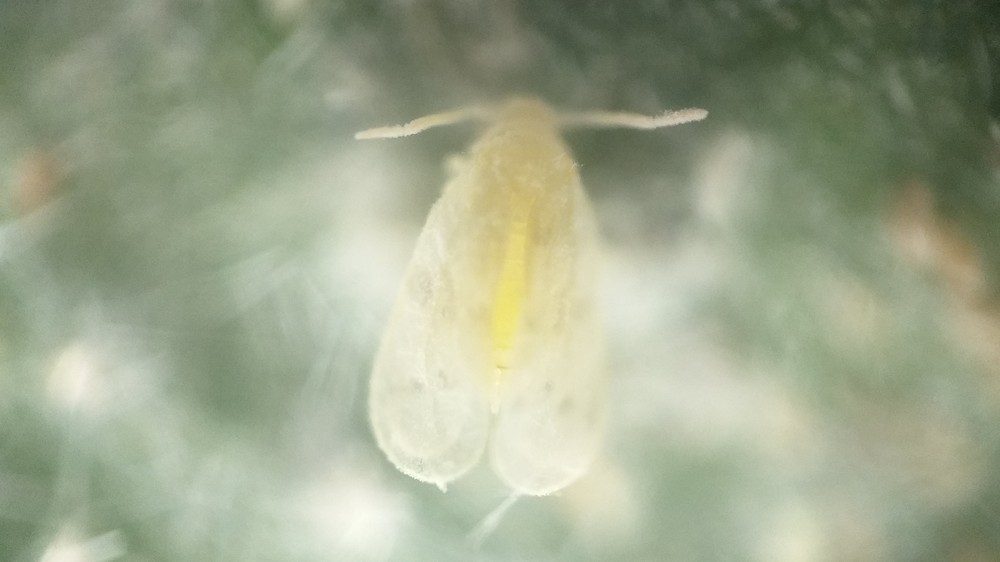Mosca Blanca: (290, 81, 746, 520)
